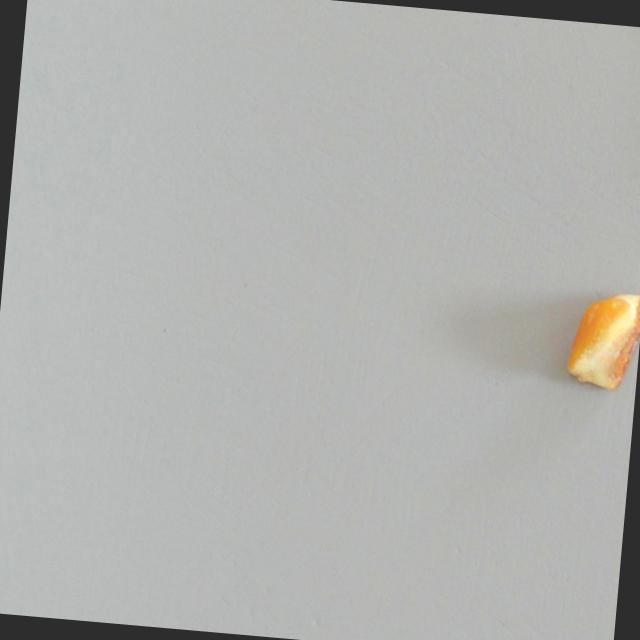dañado: (560, 282, 640, 395)
